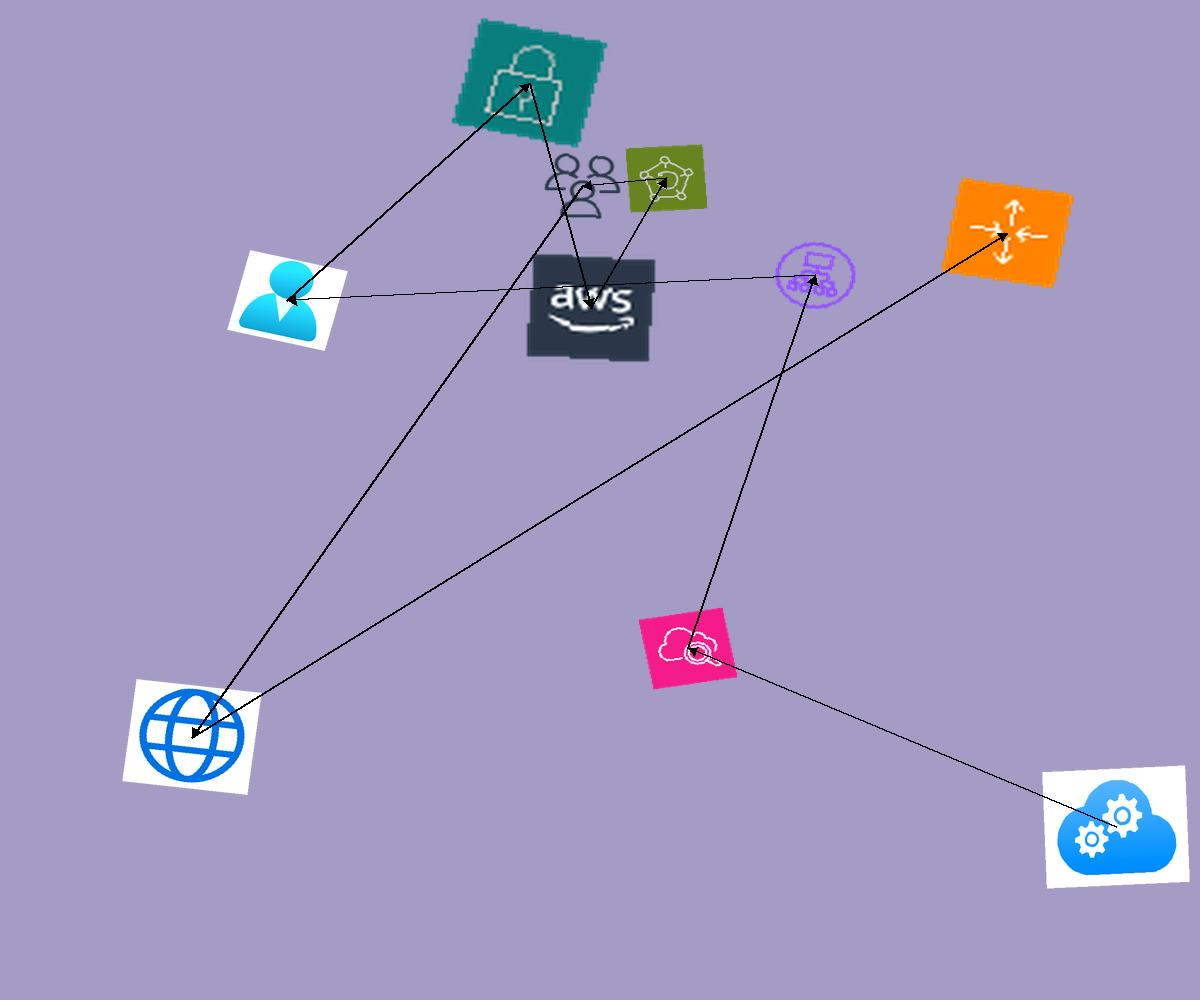AWS-Backup: (625, 144, 708, 213)
AWS-Cloud-logo: (524, 252, 658, 364)
AWS-CloudWatch: (638, 607, 738, 690)
AWS-Private-subnet: (449, 16, 610, 150)
AWS-Res_Elastic-Load-Balancing_Application-Load-Balancer: (763, 232, 868, 319)
AWS-Res_Users: (538, 149, 627, 223)
AWS-Scaling-group: (939, 176, 1076, 290)
Azure_cloud_services: (1042, 765, 1190, 889)
Azure_http: (122, 679, 262, 795)
Azure_users: (227, 250, 348, 351)
